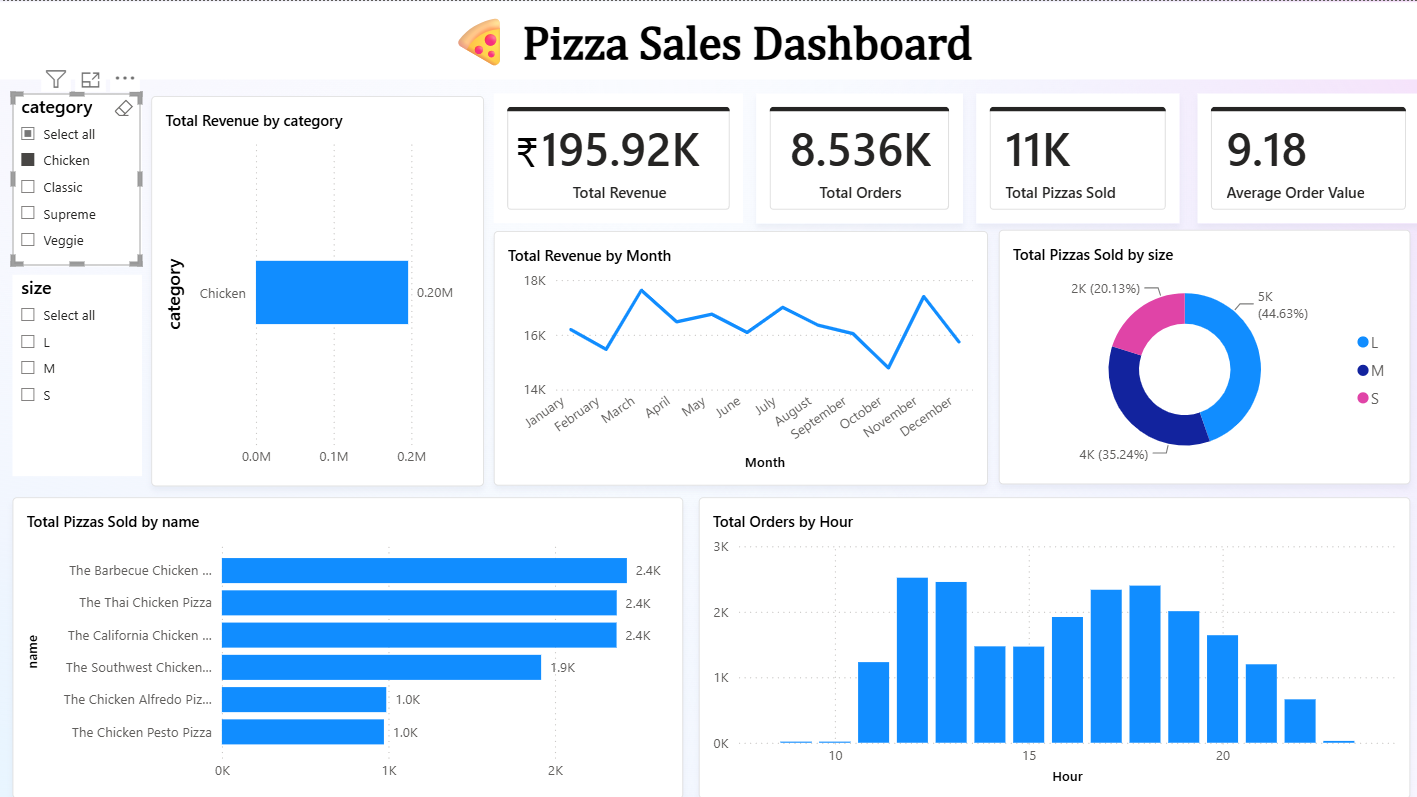

The page's visual inventory and layout, read from the dashboard file:
{"tool":"powerbi","page":{"name":"Page 1","canvas":[1280,720],"ordinal":0},"visuals":[{"type":"cardVisual","fields":{"Data":["Count(order_details.order_id)"]},"box":[682,82.9,186.1,117.7],"z":0},{"type":"cardVisual","fields":{"Data":["order_details.Total Revenue"]},"box":[445.5,82.9,225.7,117.7],"z":1000},{"type":"cardVisual","fields":{"Data":["order_details.Total Pizzas Sold"]},"box":[880.2,82.9,183.7,117.7],"z":2000},{"type":"cardVisual","fields":{"Data":["order_details.Average Order Value"]},"box":[1079.5,82.9,200.5,117.7],"z":3000},{"type":"barChart","fields":{"Category":["pizza_types.category"],"Y":["order_details.Total Revenue"]},"box":[136.4,85.7,299.8,351.7],"z":4000},{"type":"clusteredBarChart","fields":{"Category":["pizza_types.name"],"Y":["order_details.Total Pizzas Sold"]},"box":[10.8,447.9,605.2,272.6],"z":5000},{"type":"columnChart","fields":{"Category":["orders.Hour"],"Y":["order_details.Total Orders"]},"box":[630.1,447.5,641.3,272.8],"z":6000},{"type":"slicer","fields":{"Values":["pizza_types.category"]},"box":[10.8,82.9,116.5,156.1],"z":7000},{"type":"slicer","fields":{"Values":["pizzas.size"]},"box":[10.8,247.4,116.5,181.3],"z":8000},{"type":"donutChart","fields":{"Y":["order_details.Total Pizzas Sold"],"Category":["pizzas.size"]},"box":[900.6,206.3,370.8,229.9],"z":9000},{"type":"textbox","box":[0,1.2,1280,69.6],"z":10000},{"type":"textbox","box":[461,104.8,28.2,64.2],"z":11000},{"type":"lineChart","fields":{"Y":["order_details.Total Revenue"],"Category":["orders.date.Variation.Date Hierarchy.Month"]},"box":[445.5,207.7,445.5,229.3],"z":12000}]}

Visuals, with their boxes in screenshot pixels (x1, y1, x2, y2), scaled from the page's 1280x720 canvas onto the 1417x797 screenshot:
cardVisual - Count(order_details.order_id): x1=755 y1=92 x2=961 y2=222
cardVisual - order_details.Total Revenue: x1=493 y1=92 x2=743 y2=222
cardVisual - order_details.Total Pizzas Sold: x1=974 y1=92 x2=1178 y2=222
cardVisual - order_details.Average Order Value: x1=1195 y1=92 x2=1416 y2=222
barChart - pizza_types.category x order_details.Total Revenue: x1=151 y1=95 x2=483 y2=484
clusteredBarChart - pizza_types.name x order_details.Total Pizzas Sold: x1=12 y1=496 x2=682 y2=796
columnChart - orders.Hour x order_details.Total Orders: x1=698 y1=495 x2=1407 y2=796
slicer - pizza_types.category: x1=12 y1=92 x2=141 y2=265
slicer - pizzas.size: x1=12 y1=274 x2=141 y2=475
donutChart - order_details.Total Pizzas Sold x pizzas.size: x1=997 y1=228 x2=1407 y2=483
textbox: x1=0 y1=1 x2=1416 y2=78
textbox: x1=510 y1=116 x2=542 y2=187
lineChart - order_details.Total Revenue x orders.date.Variation.Date Hierarchy.Month: x1=493 y1=230 x2=986 y2=484
